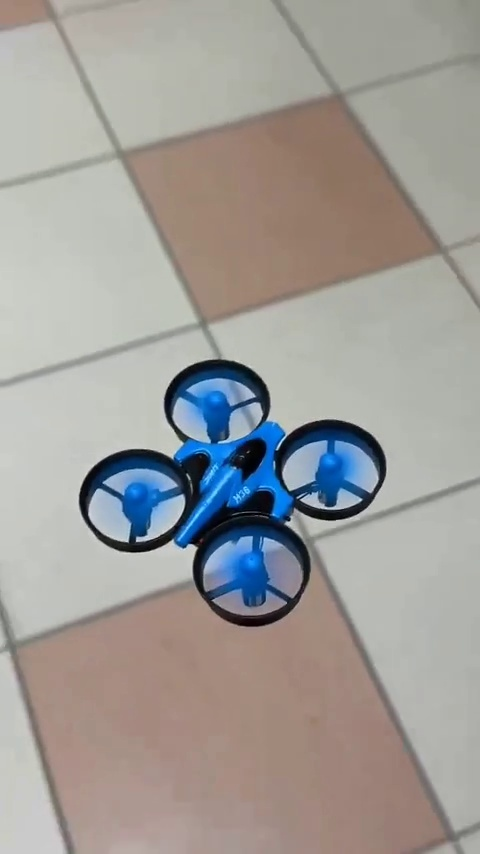drone: (83, 355, 388, 626)
